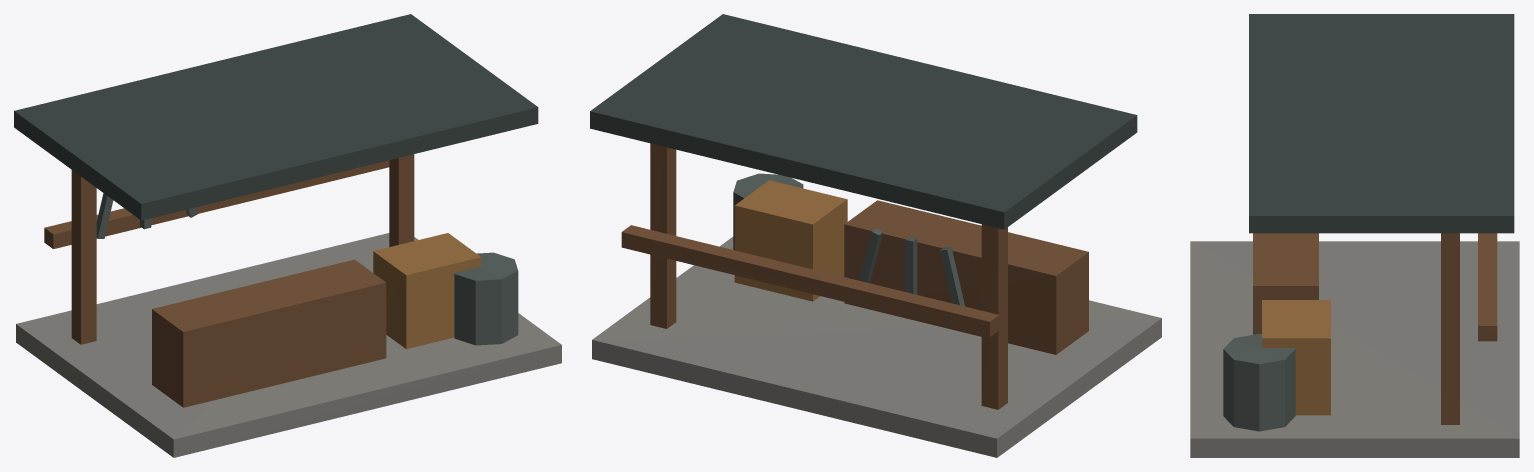
File: tool-shed.source.glb
3 renders of one model, left to right at view 1: azimuth 30°, elevation 25°; view 2: azimuth 150°, elevation 25°; view 3: azimuth 270°, elevation 25°, orthographic. The views are drawn at different scales.
Parts seen in each view (by area): view 1: tool-shed-pitched-shed-roof-mesh, tool-shed-grounded-shed-base-mesh, tool-shed-shed-workbench-mesh, tool-shed-stacked-tool-chest-mesh, tool-shed-tool-barrel-mesh, tool-shed-shed-post-1-mesh, tool-shed-shed-back-wall-mesh, tool-shed-shed-post-2-mesh; view 2: tool-shed-pitched-shed-roof-mesh, tool-shed-grounded-shed-base-mesh, tool-shed-shed-workbench-mesh, tool-shed-shed-back-wall-mesh, tool-shed-stacked-tool-chest-mesh, tool-shed-shed-post-1-mesh, tool-shed-shed-post-2-mesh, tool-shed-tool-barrel-mesh, tool-shed-hanging-hand-tool-1-mesh, tool-shed-hanging-hand-tool-2-mesh, tool-shed-hanging-hand-tool-3-mesh; view 3: tool-shed-pitched-shed-roof-mesh, tool-shed-grounded-shed-base-mesh, tool-shed-tool-barrel-mesh, tool-shed-stacked-tool-chest-mesh, tool-shed-shed-workbench-mesh, tool-shed-shed-post-2-mesh, tool-shed-shed-back-wall-mesh.
Boxes of the visible parts, box(x1,y1,x2,y2) form: tool-shed-pitched-shed-roof-mesh: box(14, 14, 538, 220); tool-shed-grounded-shed-base-mesh: box(16, 233, 561, 457); tool-shed-shed-workbench-mesh: box(152, 259, 386, 407); tool-shed-stacked-tool-chest-mesh: box(373, 233, 481, 349); tool-shed-tool-barrel-mesh: box(454, 252, 518, 345); tool-shed-shed-post-1-mesh: box(71, 170, 96, 344); tool-shed-shed-back-wall-mesh: box(44, 160, 389, 248); tool-shed-shed-post-2-mesh: box(389, 154, 414, 246); tool-shed-pitched-shed-roof-mesh: box(590, 14, 1137, 229); tool-shed-grounded-shed-base-mesh: box(592, 237, 1161, 457); tool-shed-shed-workbench-mesh: box(844, 200, 1088, 354); tool-shed-shed-back-wall-mesh: box(621, 225, 999, 337); tool-shed-stacked-tool-chest-mesh: box(734, 180, 847, 301); tool-shed-shed-post-1-mesh: box(981, 224, 1007, 409); tool-shed-shed-post-2-mesh: box(650, 143, 676, 328); tool-shed-tool-barrel-mesh: box(733, 173, 803, 250); tool-shed-hanging-hand-tool-1-mesh: box(940, 247, 964, 306); tool-shed-hanging-hand-tool-2-mesh: box(905, 237, 917, 294); tool-shed-hanging-hand-tool-3-mesh: box(859, 228, 882, 283); tool-shed-pitched-shed-roof-mesh: box(1249, 14, 1514, 233); tool-shed-grounded-shed-base-mesh: box(1190, 241, 1519, 457); tool-shed-tool-barrel-mesh: box(1223, 333, 1295, 431); tool-shed-stacked-tool-chest-mesh: box(1262, 300, 1330, 415); tool-shed-shed-workbench-mesh: box(1253, 233, 1318, 334); tool-shed-shed-post-2-mesh: box(1441, 233, 1459, 424); tool-shed-shed-back-wall-mesh: box(1478, 233, 1497, 341).
Bounding box in the file's own units: 4.5 × 2.54 × 3.1.
